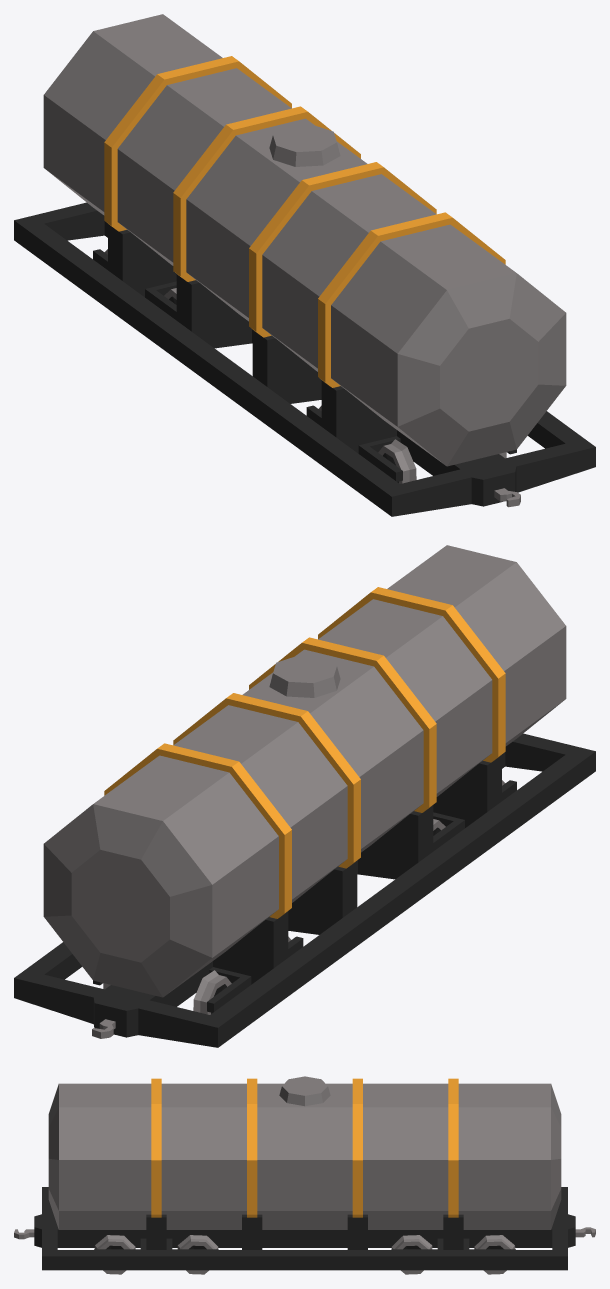
Rendered from vehicles_train-wagon-oil.fbx.
3 renders of one model, top to bottom at view 1: azimuth 30°, elevation 25°; view 2: azimuth 150°, elevation 25°; view 3: azimuth 270°, elevation 25°, orthographic. The views are drawn at different scales.
Parts seen in each view (by area): view 1: train_wagon_oil_base, train_wagon_oil_wheel_front_F, train_wagon_oil_wheel_F1, train_wagon_oil_wheel_front_B; view 2: train_wagon_oil_base, train_wagon_oil_wheel_front_B, train_wagon_oil_wheel_B2, train_wagon_oil_wheel_front_F; view 3: train_wagon_oil_base, train_wagon_oil_wheel_B2, train_wagon_oil_wheel_F1, train_wagon_oil_wheel_B1, train_wagon_oil_wheel_F2.
Part boxes in pixels (x1=…): train_wagon_oil_base: x1=14, y1=14, x2=595, y2=516; train_wagon_oil_wheel_front_F: x1=306, y1=405, x2=516, y2=481; train_wagon_oil_wheel_F1: x1=378, y1=439, x2=506, y2=483; train_wagon_oil_wheel_front_B: x1=93, y1=249, x2=176, y2=320; train_wagon_oil_base: x1=14, y1=545, x2=595, y2=1047; train_wagon_oil_wheel_front_B: x1=93, y1=936, x2=303, y2=1012; train_wagon_oil_wheel_B2: x1=103, y1=970, x2=231, y2=1014; train_wagon_oil_wheel_front_F: x1=433, y1=780, x2=516, y2=851; train_wagon_oil_base: x1=14, y1=1076, x2=595, y2=1270; train_wagon_oil_wheel_B2: x1=474, y1=1235, x2=515, y2=1274; train_wagon_oil_wheel_F1: x1=94, y1=1235, x2=135, y2=1274; train_wagon_oil_wheel_B1: x1=391, y1=1235, x2=432, y2=1274; train_wagon_oil_wheel_F2: x1=177, y1=1235, x2=218, y2=1274.
Size of the model in its own units: 56.34 by 65.6 by 200.
